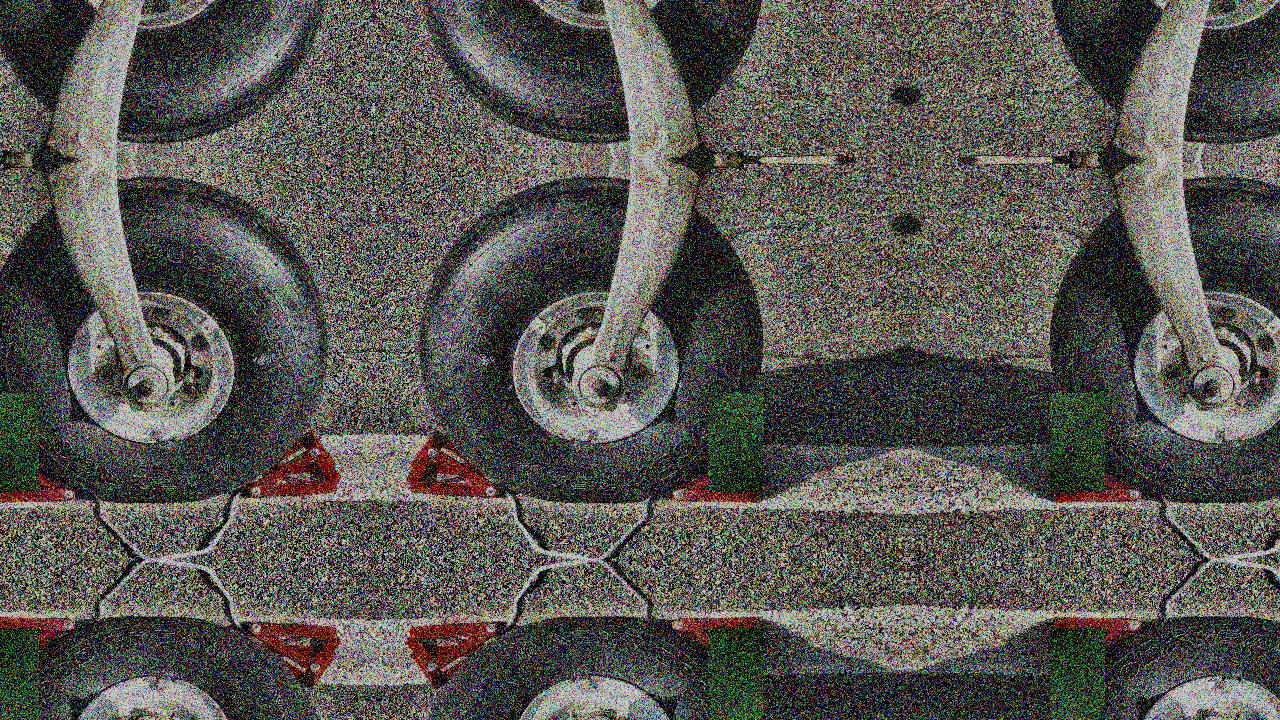chock: (245, 429, 344, 497), (245, 623, 344, 691), (403, 429, 501, 497), (403, 623, 501, 691), (669, 441, 765, 503), (1048, 441, 1144, 503), (669, 617, 765, 679), (1048, 617, 1144, 679), (0, 441, 77, 503), (0, 617, 77, 679)
wheel: (418, 175, 754, 497), (0, 175, 329, 497), (1059, 175, 1280, 497), (418, 0, 754, 145), (0, 0, 329, 145), (418, 623, 754, 720), (1059, 0, 1280, 145), (0, 623, 329, 720), (1059, 623, 1280, 720)
